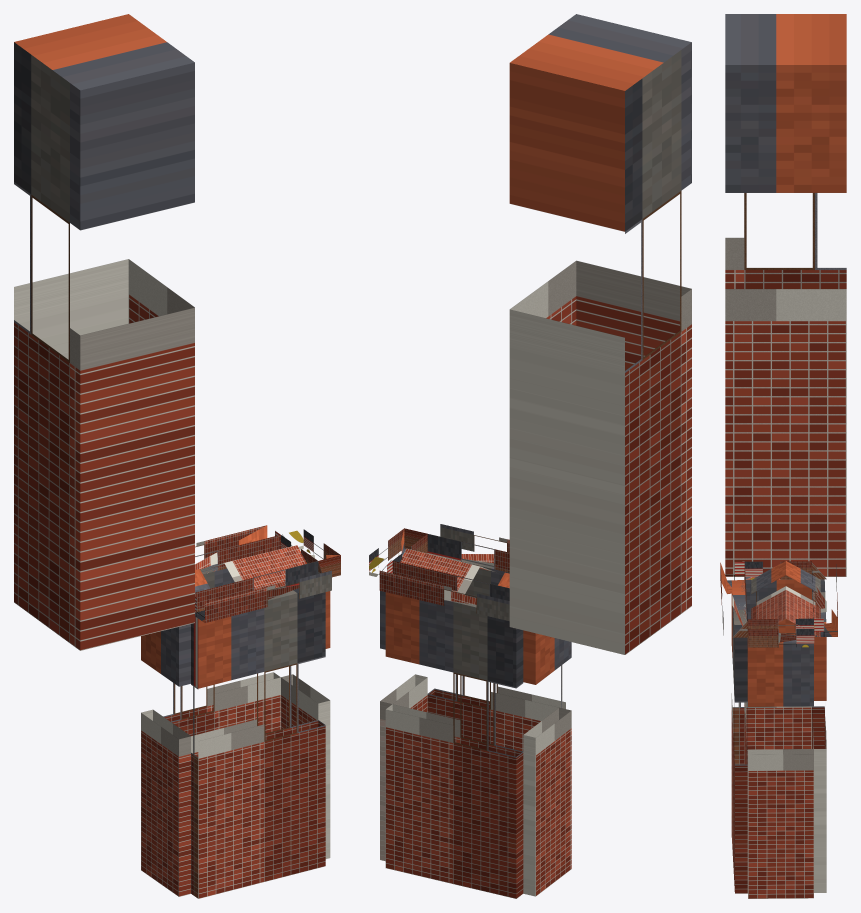
3 views of the same model, side by side, from view 1: azimuth 30°, elevation 25°; view 2: azimuth 150°, elevation 25°; view 3: azimuth 270°, elevation 25° (orthographic). The views are drawn at different scales.
Visible parts, largest first — view 1: 1107107800__chimney_0_xb, 1107107800__wall_2_xb, 1107107800__wall_3_xb, 1107107800__wall_0_xb, 1107107800__cornice_2, 1107107800__wall_1_xb, 1107107800_roof_-1_xb, 1107107800__cornice_0, 1107107800__cornice_1; view 2: 1107107800__chimney_0_xb, 1107107800__wall_0_xb, 1107107800__wall_3_xb, 1107107800__wall_2_xb, 1107107800__cornice_0, 1107107800__wall_1_xb, 1107107800__cornice_2, 1107107800_roof_1_xb, 1107107800__cornice_1; view 3: 1107107800__chimney_0_xb, 1107107800__wall_1_xb, 1107107800__wall_2_xb, 1107107800__wall_3_xb, 1107107800__wall_0_xb, 1107107800__cornice_1, 1107107800_roof_1_xb, 1107107800_roof_-1_xb, 1107107800__cornice_0, 1107107800__cornice_2, 1107107800__cornice_3.
Part boxes in pixels (x1,y1,x2,y2): 1107107800__chimney_0_xb: (14, 14, 194, 650); 1107107800__wall_2_xb: (191, 588, 325, 898); 1107107800__wall_3_xb: (141, 624, 190, 896); 1107107800__wall_0_xb: (163, 564, 280, 735); 1107107800__cornice_2: (195, 561, 331, 622); 1107107800__wall_1_xb: (281, 591, 330, 858); 1107107800_roof_-1_xb: (195, 545, 306, 592); 1107107800__cornice_0: (195, 525, 280, 574); 1107107800__cornice_1: (281, 529, 340, 577); 1107107800__chimney_0_xb: (509, 14, 691, 654); 1107107800__wall_0_xb: (385, 592, 523, 898); 1107107800__wall_3_xb: (523, 630, 571, 896); 1107107800__wall_2_xb: (427, 559, 565, 751); 1107107800__cornice_0: (379, 560, 509, 621); 1107107800__wall_1_xb: (380, 591, 427, 861); 1107107800__cornice_2: (427, 524, 509, 572); 1107107800_roof_1_xb: (400, 548, 509, 594); 1107107800__cornice_1: (369, 528, 427, 576); 1107107800__chimney_0_xb: (725, 14, 846, 576); 1107107800__wall_1_xb: (747, 638, 813, 898); 1107107800__wall_2_xb: (731, 580, 747, 893); 1107107800__wall_3_xb: (744, 577, 811, 757); 1107107800__wall_0_xb: (812, 579, 826, 892); 1107107800__cornice_1: (747, 618, 814, 647); 1107107800_roof_1_xb: (786, 561, 820, 637); 1107107800_roof_-1_xb: (751, 561, 785, 628); 1107107800__cornice_0: (812, 563, 837, 636); 1107107800__cornice_2: (720, 561, 747, 637); 1107107800__cornice_3: (744, 561, 811, 579).
Size of the model in its own units: 0.357 by 1.05 by 0.1562.
1 material, 1 textured.
